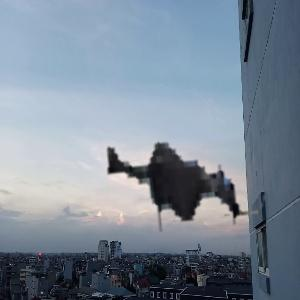drone: (61, 45, 283, 267)
